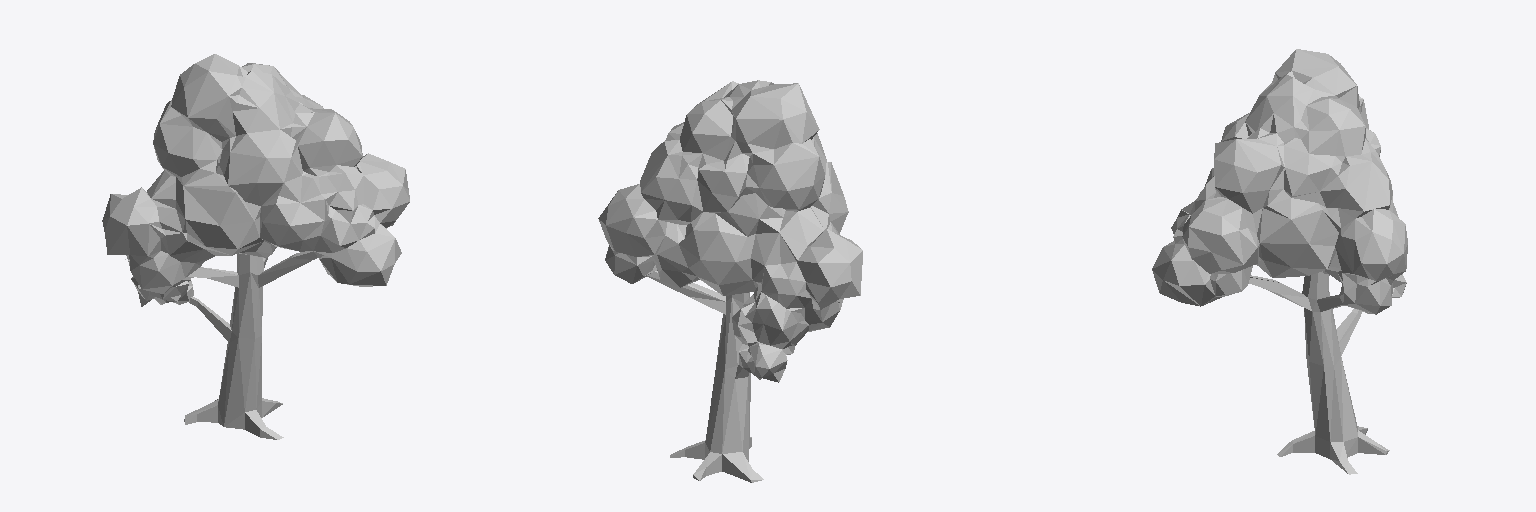
Rendered from tree_X12_+X1_Rock_Pack.obj.
3 views of the same model, side by side, from view 1: azimuth 30°, elevation 25°; view 2: azimuth 150°, elevation 25°; view 3: azimuth 270°, elevation 25° (orthographic).
Visible parts, largest first — view 1: _6_tree_Cube.003; view 2: _6_tree_Cube.003; view 3: _6_tree_Cube.003.
Part boxes in pixels (x1,y1,x2,y2): _6_tree_Cube.003: (102,54,409,439); _6_tree_Cube.003: (598,80,862,482); _6_tree_Cube.003: (1152,49,1407,474).
Size of the model in its own units: 1.74 by 2.6 by 1.6.